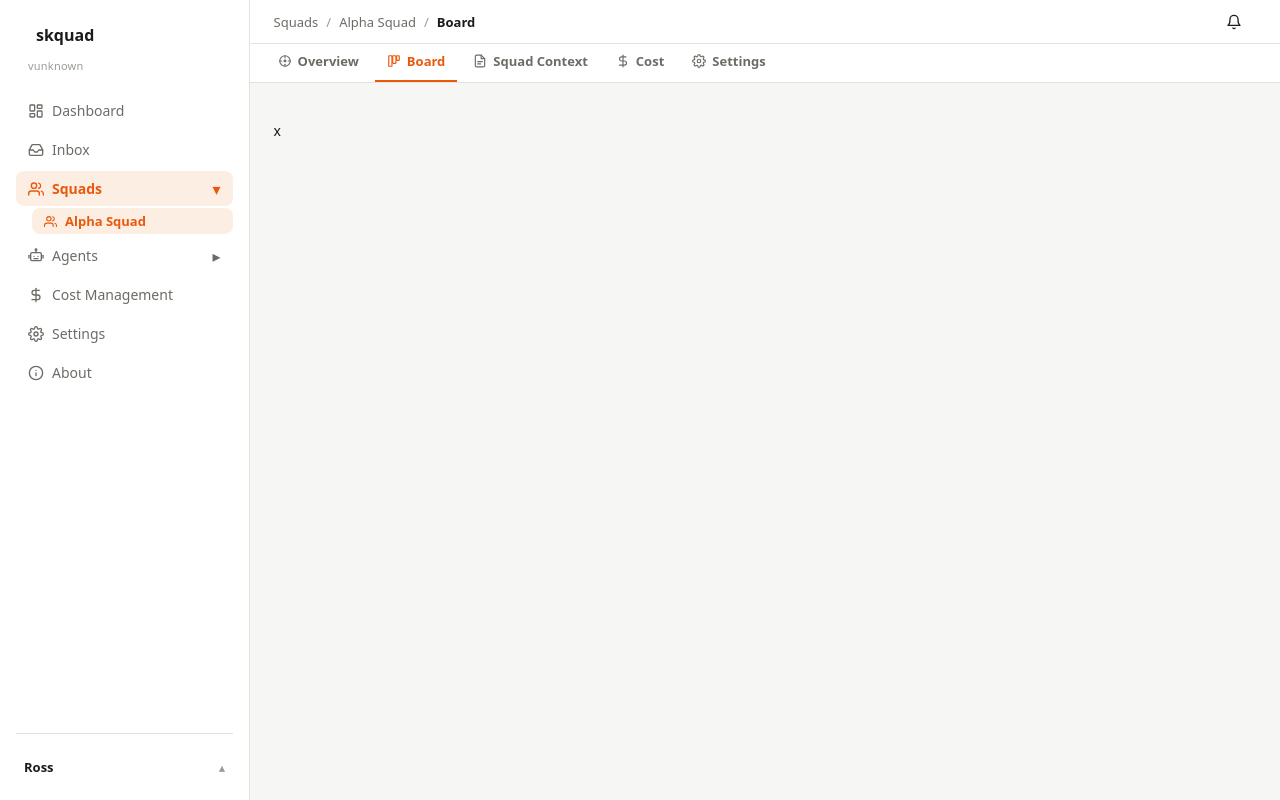
Test: AppShell primary rail › collapses the Squads group when the chevron is clicked
Click the button named "Collapse squads".
click(217, 188)  # box [209, 180, 225, 196]
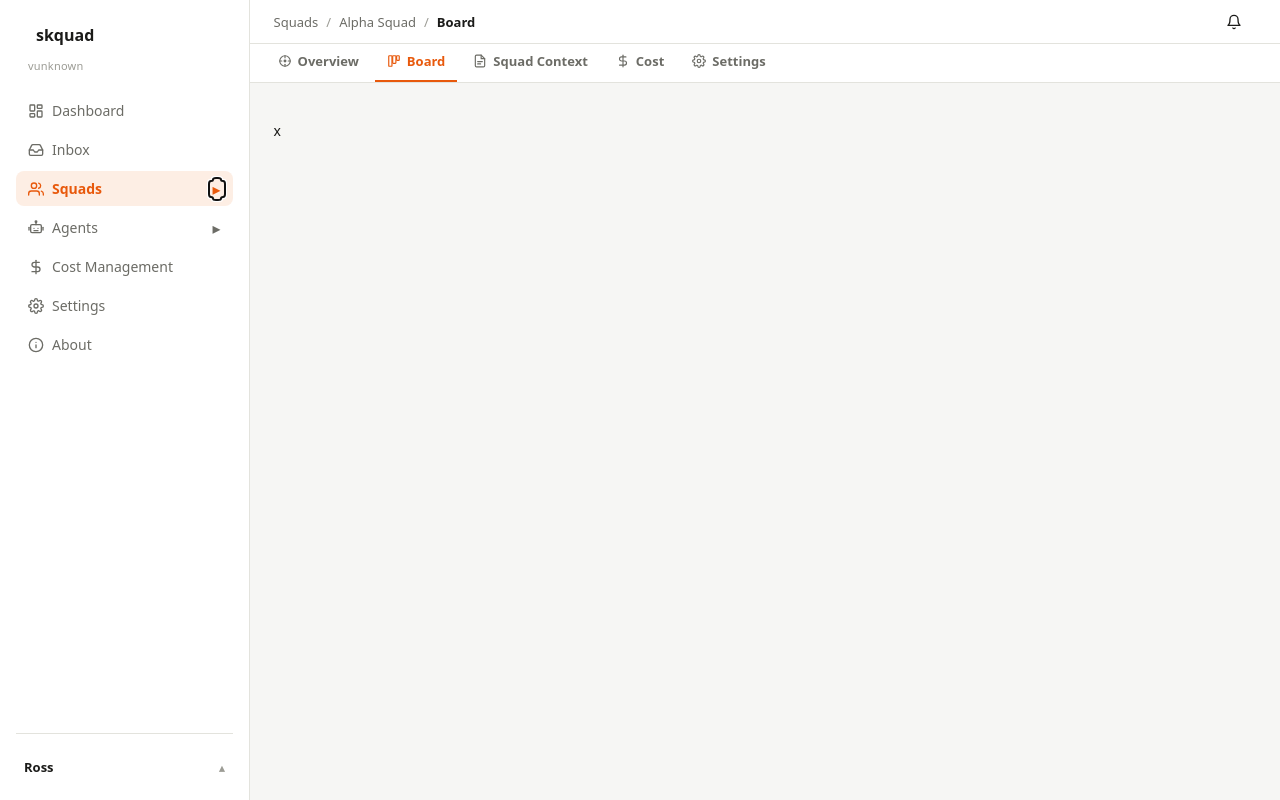
Now the button named "Expand squads" is collapsed, box [209, 180, 225, 196]
